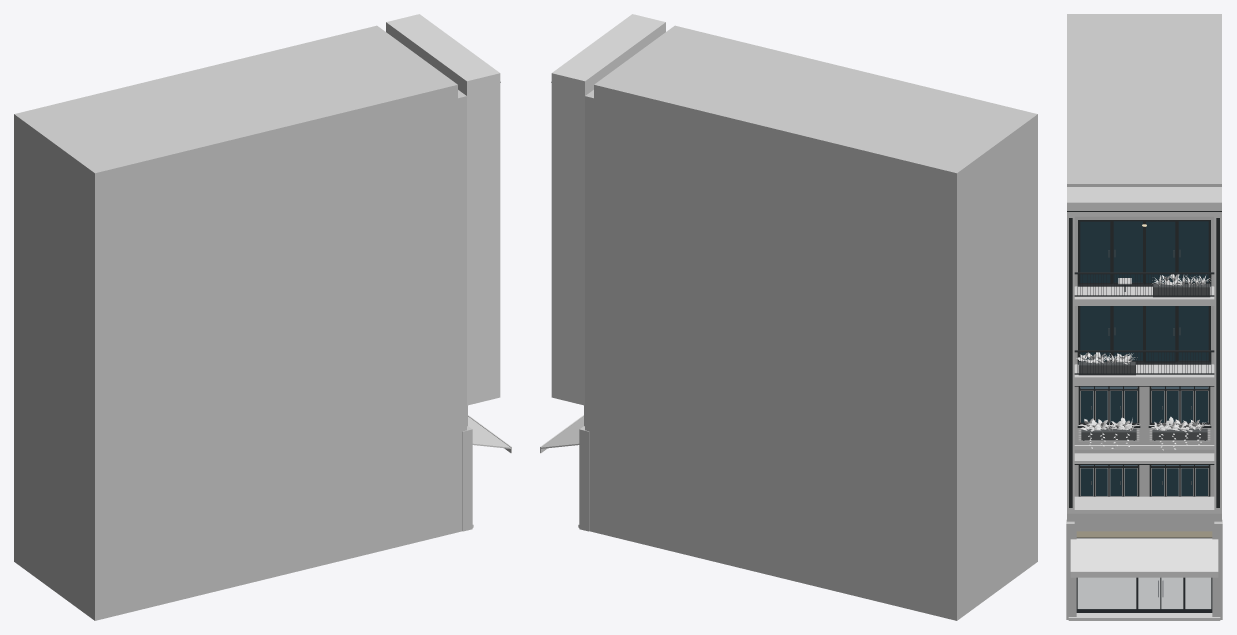
File: OW_Mau_NhaPho_6_0_2_B.fbx
3 views of the same model, side by side, from view 1: azimuth 30°, elevation 25°; view 2: azimuth 150°, elevation 25°; view 3: azimuth 270°, elevation 25° (orthographic). The views are drawn at different scales.
Visible parts, largest first — view 1: OW_NhaPho_9029; view 2: OW_NhaPho_9029; view 3: OW_NhaPho_9029, OW_MatTienKinh.
Boxes of the visible parts, x1,y1,x2,y2 form: OW_NhaPho_9029: [14, 14, 511, 620]; OW_NhaPho_9029: [540, 14, 1037, 620]; OW_NhaPho_9029: [1066, 14, 1222, 620]; OW_MatTienKinh: [1076, 531, 1212, 612].
Bounding box in the file's own units: 17.77 × 18.2 × 6.
